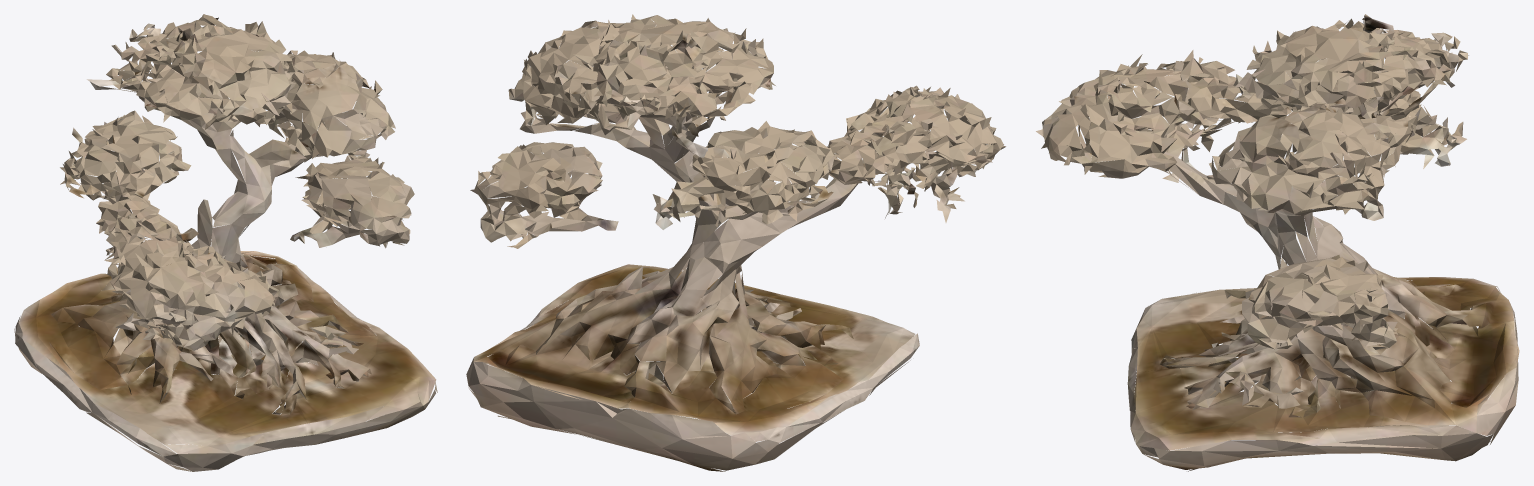
The model's file is wt-ruins-grove.glb.
3 views of the same model, side by side, from view 1: azimuth 30°, elevation 25°; view 2: azimuth 150°, elevation 25°; view 3: azimuth 270°, elevation 25° (orthographic). The views are drawn at different scales.
Visible parts, largest first — view 1: tmppvr1ptej.ply; view 2: tmppvr1ptej.ply; view 3: tmppvr1ptej.ply.
Boxes of the visible parts, box(x1,y1,x2,y2) form: tmppvr1ptej.ply: box(14, 14, 437, 471); tmppvr1ptej.ply: box(466, 14, 1005, 471); tmppvr1ptej.ply: box(1036, 14, 1519, 471).
Bounding box in the file's own units: 8.27 × 7.55 × 8.55.
1 material, 1 textured.
